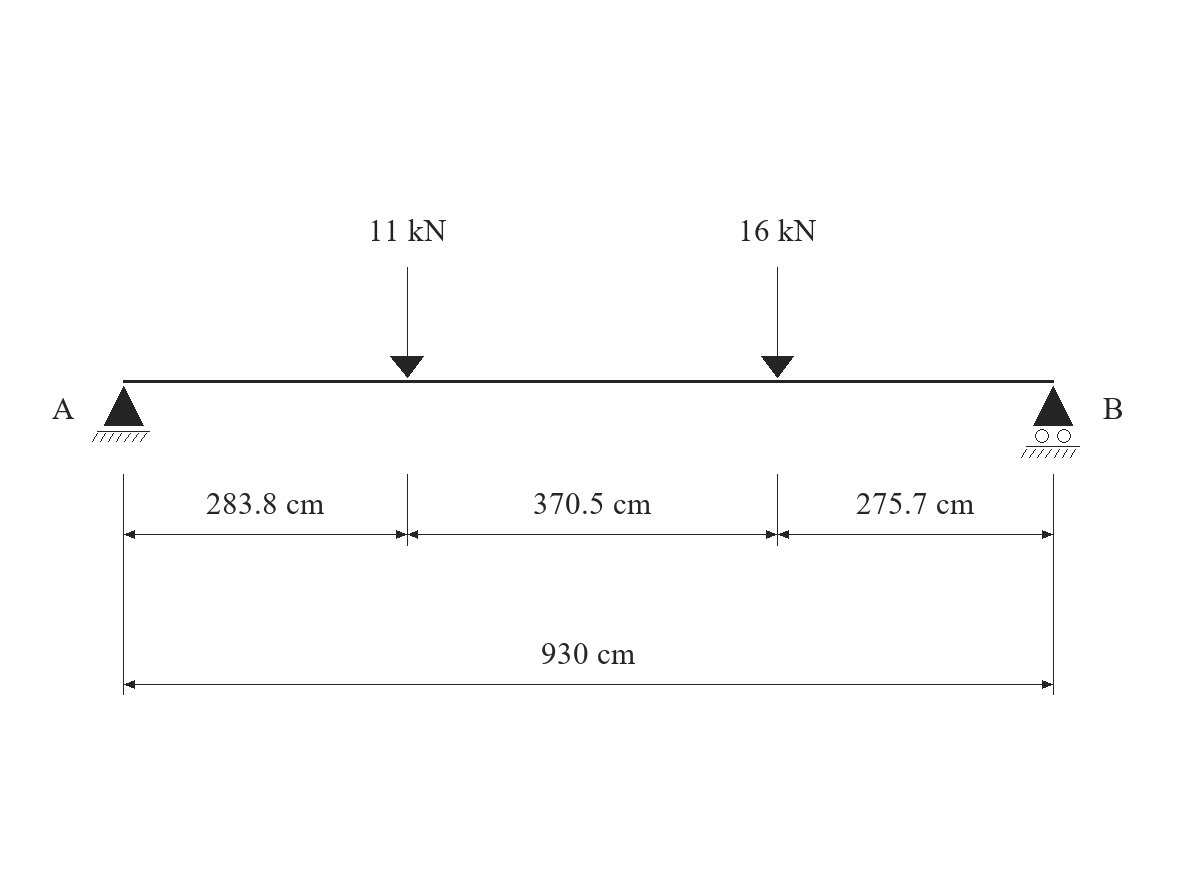pin_support: (92, 386, 150, 442)
point_load: (390, 267, 424, 378), (761, 267, 794, 378)
roller_support: (1021, 386, 1080, 458)
